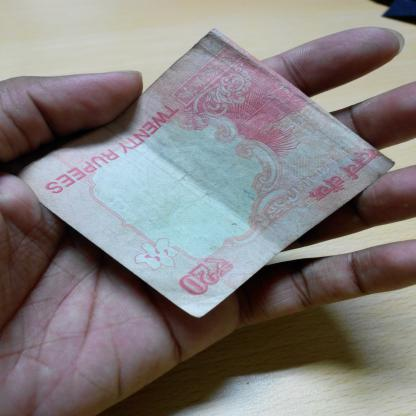Old20Back: (30, 33, 388, 309)
